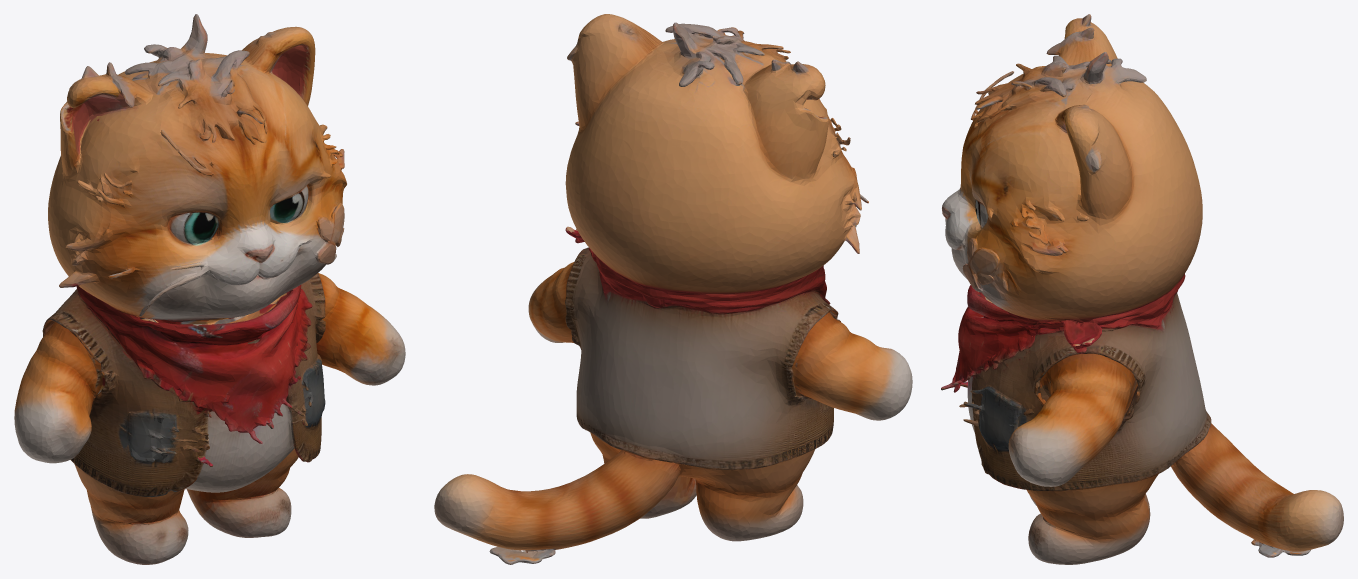
The model's file is meo-1234-chi-tiet.glb.
3 renders of one model, left to right at view 1: azimuth 30°, elevation 25°; view 2: azimuth 150°, elevation 25°; view 3: azimuth 270°, elevation 25°, orthographic. The views are drawn at different scales.
Parts seen in each view (by area): view 1: meo-1234; view 2: meo-1234; view 3: meo-1234.
Part boxes in pixels (x1,y1,x2,y2): meo-1234: [14, 14, 405, 564]; meo-1234: [434, 14, 912, 564]; meo-1234: [941, 14, 1343, 564].
Size of the model in its own units: 1.55 by 1.99 by 1.5.
Materials: 1 (1 with a texture image).
